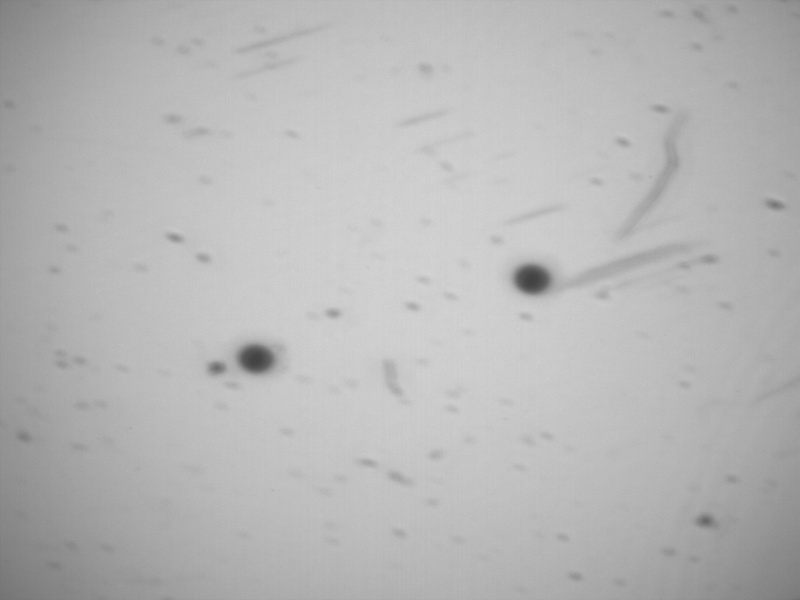bead: (514, 262, 552, 296), (235, 342, 277, 372)
fiber: (615, 106, 689, 239), (381, 355, 407, 400)
